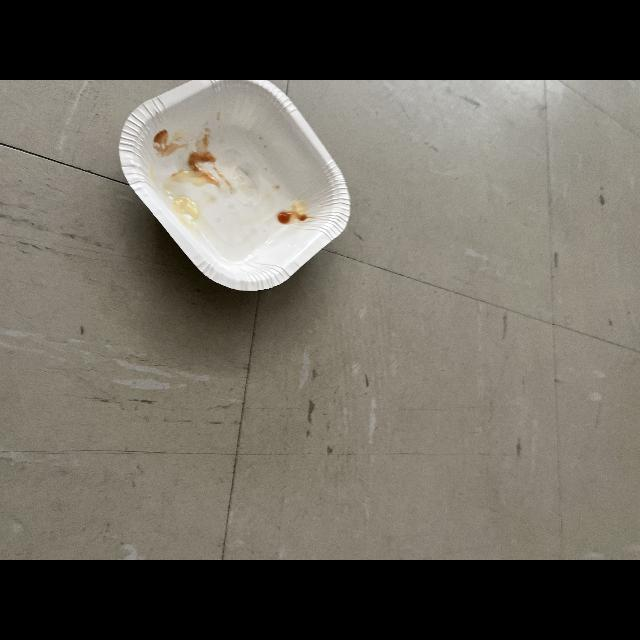cardboard_bowl: (97, 80, 360, 290)
